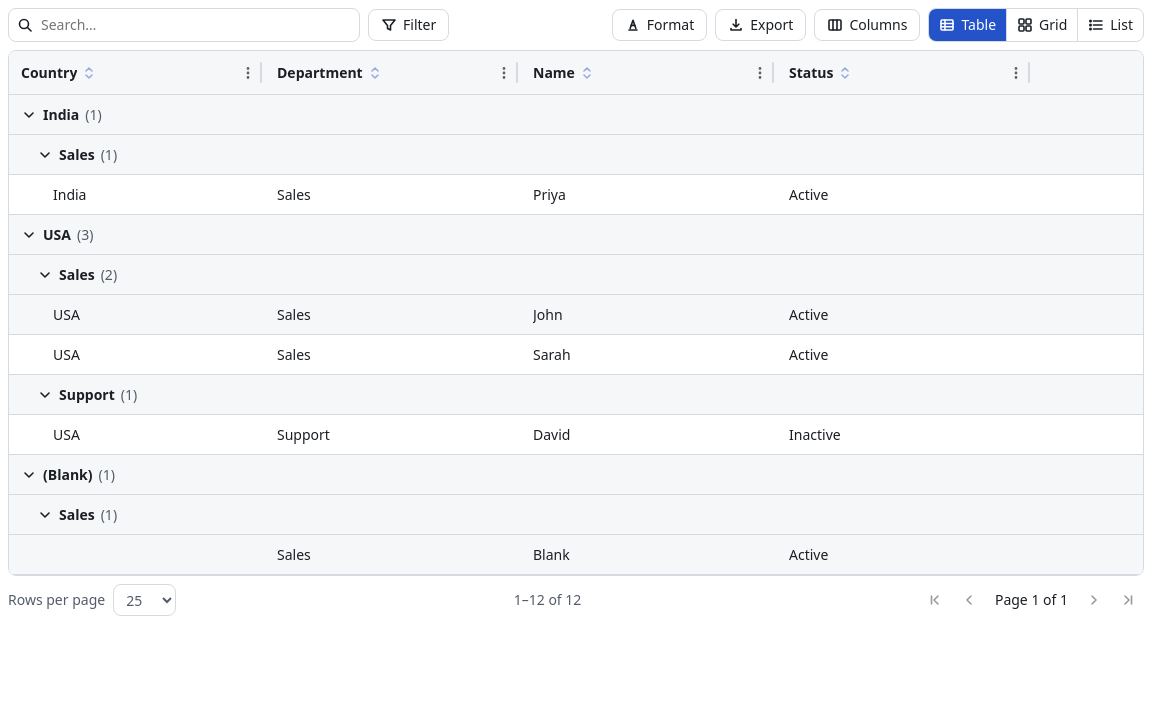
Test case: row grouping › renders a hierarchy and collapses only the clicked group
Expected: the text "John" is shown, [533,305,563,324]
Expected: the text "Priya" is shown, [533,185,566,204]
Click the row "USA (3)". click: (576, 235)
box: [9,215,1143,255]
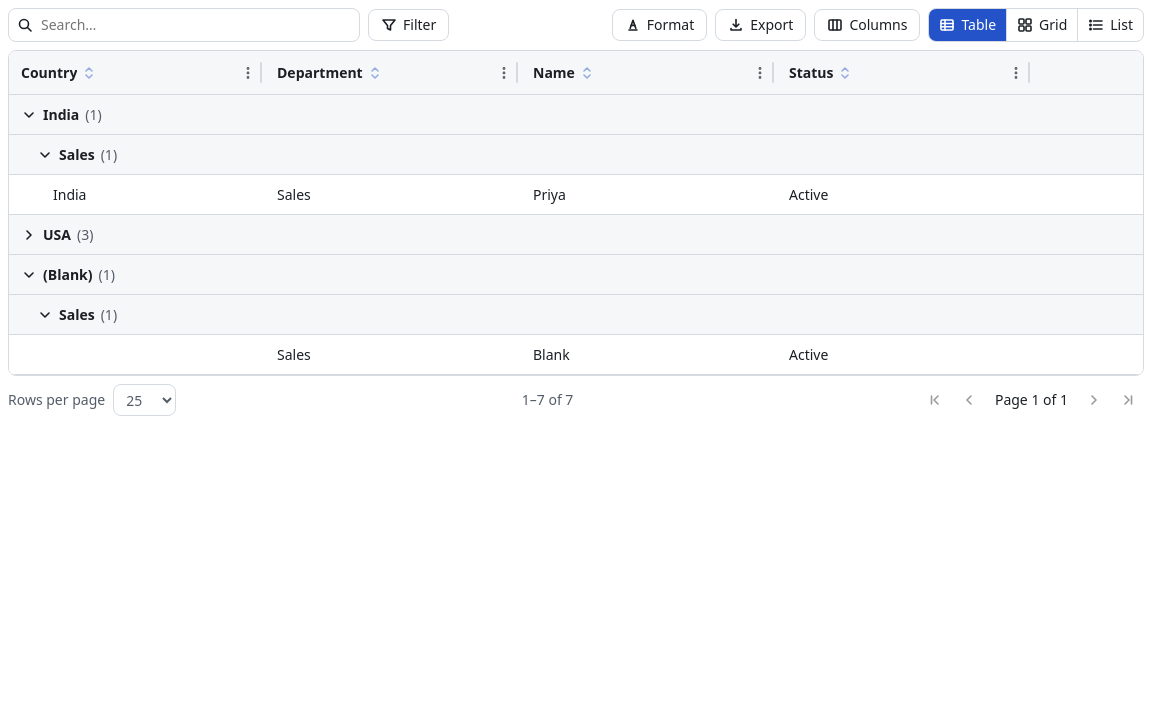
Expected: the text "John" is gone
Expected: the text "David" is gone
Expected: the row "USA (3)" is collapsed
Click the row "USA (3)". click: (576, 235)
box: [9,215,1143,255]
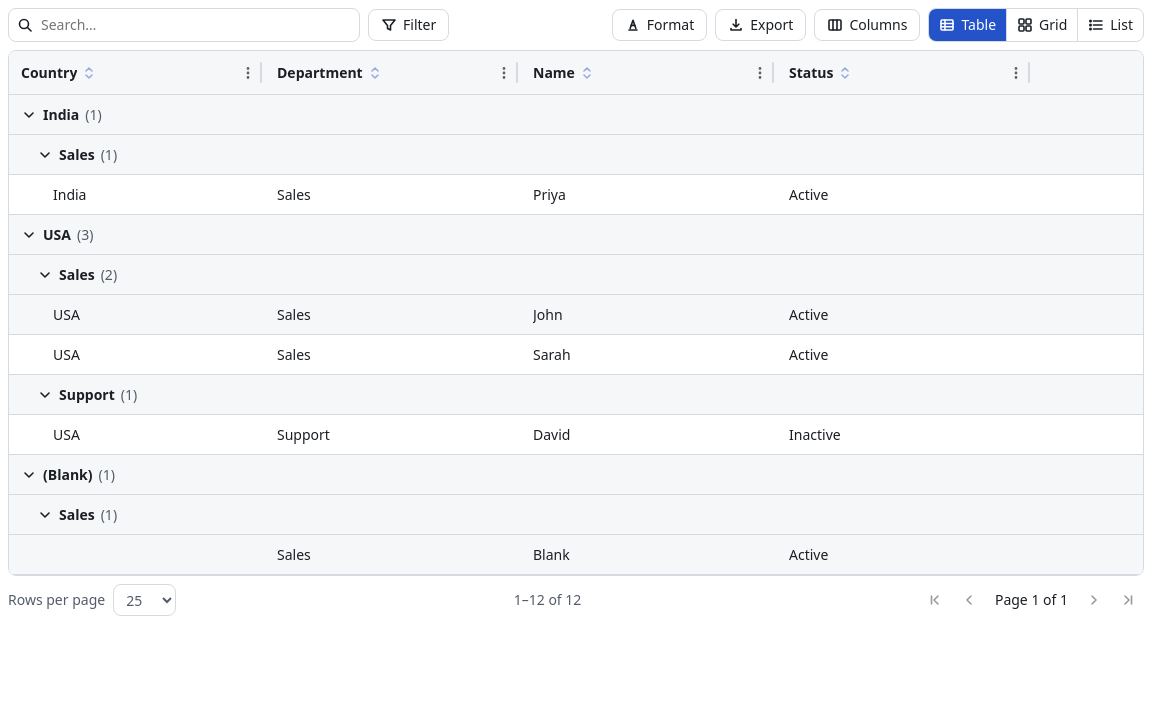
Expected: the text "John" is shown, [533,305,563,324]
Expected: the text "David" is shown, [533,425,570,444]
